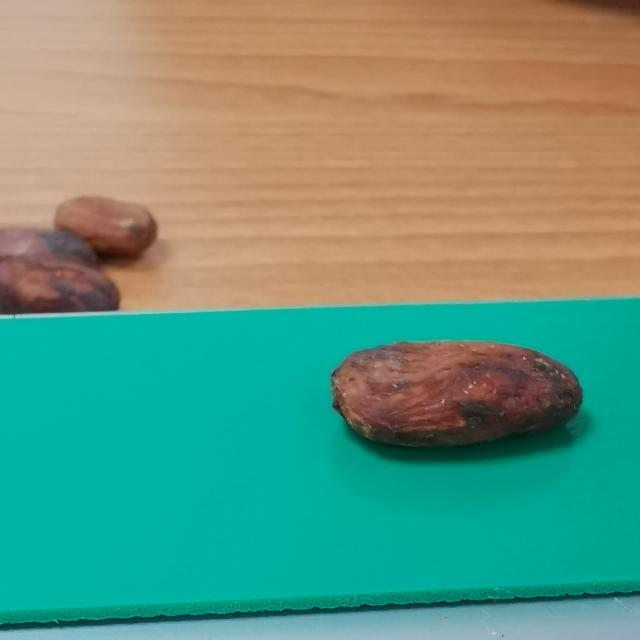Fine_cocoabeans: (288, 321, 634, 488)
